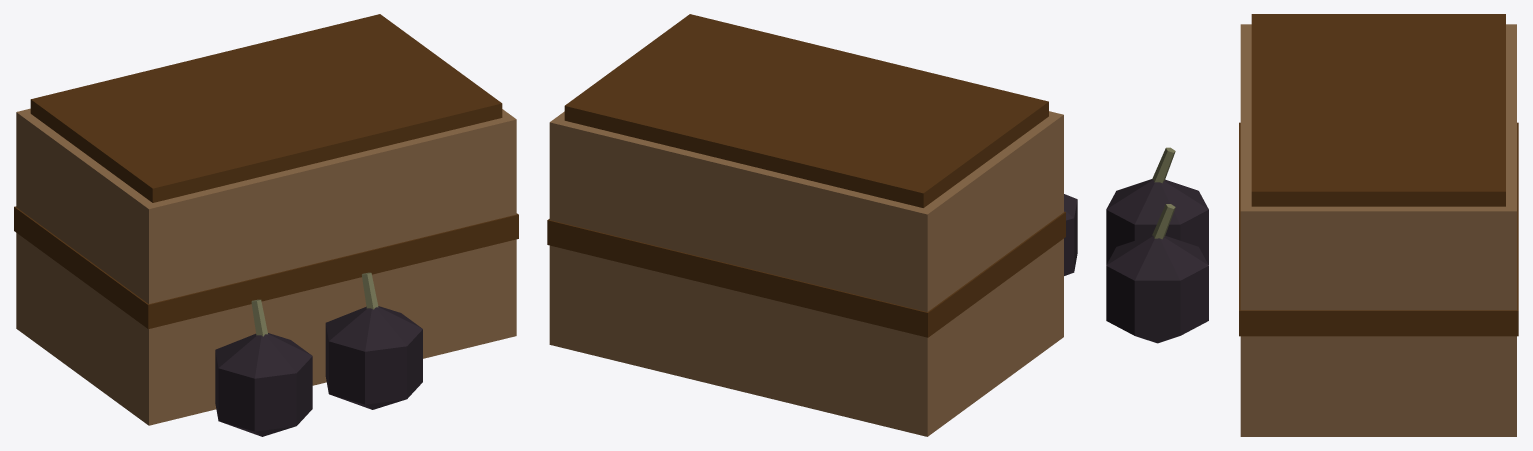
The model's file is ce_ammo2_ballgren_std_c.obj.
3 renders of one model, left to right at view 1: azimuth 30°, elevation 25°; view 2: azimuth 150°, elevation 25°; view 3: azimuth 270°, elevation 25°, orthographic. The views are drawn at different scales.
Visible parts, largest first — view 1: ce_ammo2_ballgren_std_c_0, ce_ammo2_ballgren_std_c_1, ce_ammo2_ballgren_std_c_2, ce_ammo2_ballgren_std_c_3, ce_ammo2_ballgren_std_c_5; view 2: ce_ammo2_ballgren_std_c_0, ce_ammo2_ballgren_std_c_1, ce_ammo2_ballgren_std_c_2, ce_ammo2_ballgren_std_c_3; view 3: ce_ammo2_ballgren_std_c_0, ce_ammo2_ballgren_std_c_1, ce_ammo2_ballgren_std_c_5, ce_ammo2_ballgren_std_c_2, ce_ammo2_ballgren_std_c_3, ce_ammo2_ballgren_std_c_4, ce_ammo2_ballgren_std_c_6.
Part boxes in pixels (<box>): ce_ammo2_ballgren_std_c_0: <box>16,108,516,425</box>; ce_ammo2_ballgren_std_c_1: <box>30,14,502,202</box>; ce_ammo2_ballgren_std_c_2: <box>14,206,518,328</box>; ce_ammo2_ballgren_std_c_3: <box>215,333,312,436</box>; ce_ammo2_ballgren_std_c_5: <box>325,306,422,409</box>; ce_ammo2_ballgren_std_c_0: <box>549,111,1063,436</box>; ce_ammo2_ballgren_std_c_1: <box>564,14,1048,207</box>; ce_ammo2_ballgren_std_c_2: <box>547,211,1065,337</box>; ce_ammo2_ballgren_std_c_3: <box>1064,194,1077,275</box>; ce_ammo2_ballgren_std_c_0: <box>1240,24,1516,436</box>; ce_ammo2_ballgren_std_c_1: <box>1251,14,1505,206</box>; ce_ammo2_ballgren_std_c_5: <box>1106,235,1208,343</box>; ce_ammo2_ballgren_std_c_2: <box>1239,122,1518,336</box>; ce_ammo2_ballgren_std_c_3: <box>1106,179,1208,264</box>; ce_ammo2_ballgren_std_c_4: <box>1152,147,1175,183</box>; ce_ammo2_ballgren_std_c_6: <box>1152,204,1175,239</box>.
Size of the model in its own units: 0.806 by 0.48 by 0.7459.
